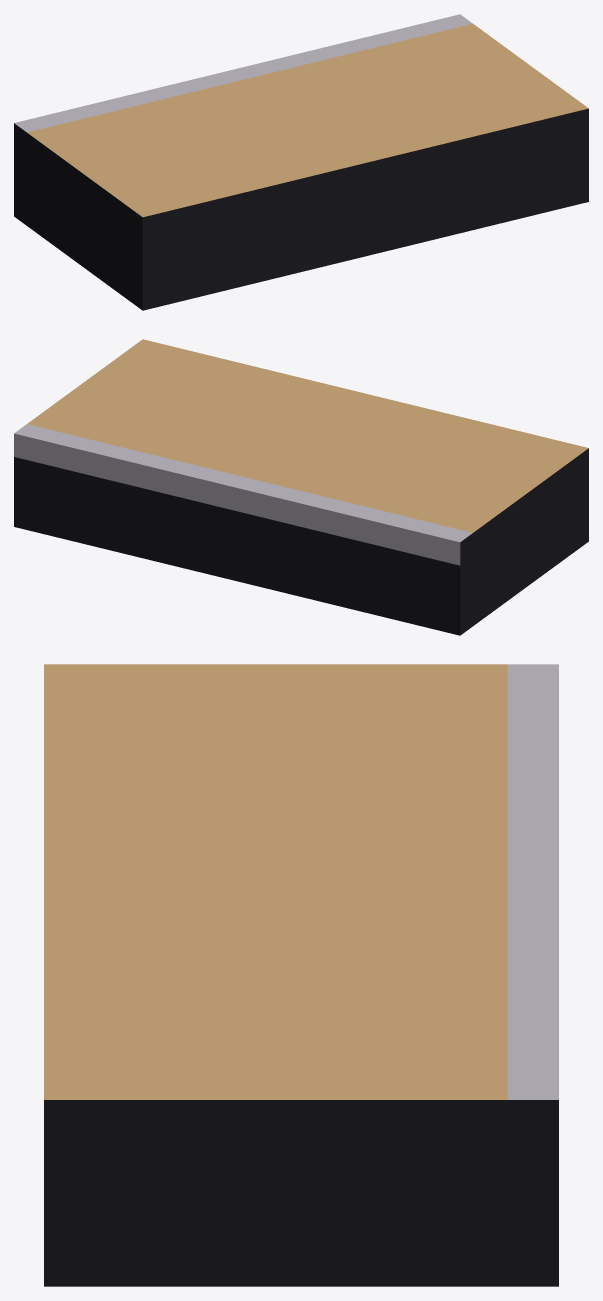
Rendered from ManPad_Half_2_OneGrind.fbx.
3 views of the same model, one above another, from view 1: azimuth 30°, elevation 25°; view 2: azimuth 150°, elevation 25°; view 3: azimuth 270°, elevation 25° (orthographic). The views are drawn at different scales.
Visible parts, largest first — view 1: ManPad_Half_2_OneGrind; view 2: ManPad_Half_2_OneGrind; view 3: ManPad_Half_2_OneGrind.
Part boxes in pixels (left/top/right/bottom): ManPad_Half_2_OneGrind: left=14, top=14, right=588, bottom=310; ManPad_Half_2_OneGrind: left=14, top=339, right=588, bottom=635; ManPad_Half_2_OneGrind: left=44, top=664, right=558, bottom=1286.
Bounding box in the file's own units: 10 × 2 × 5.
